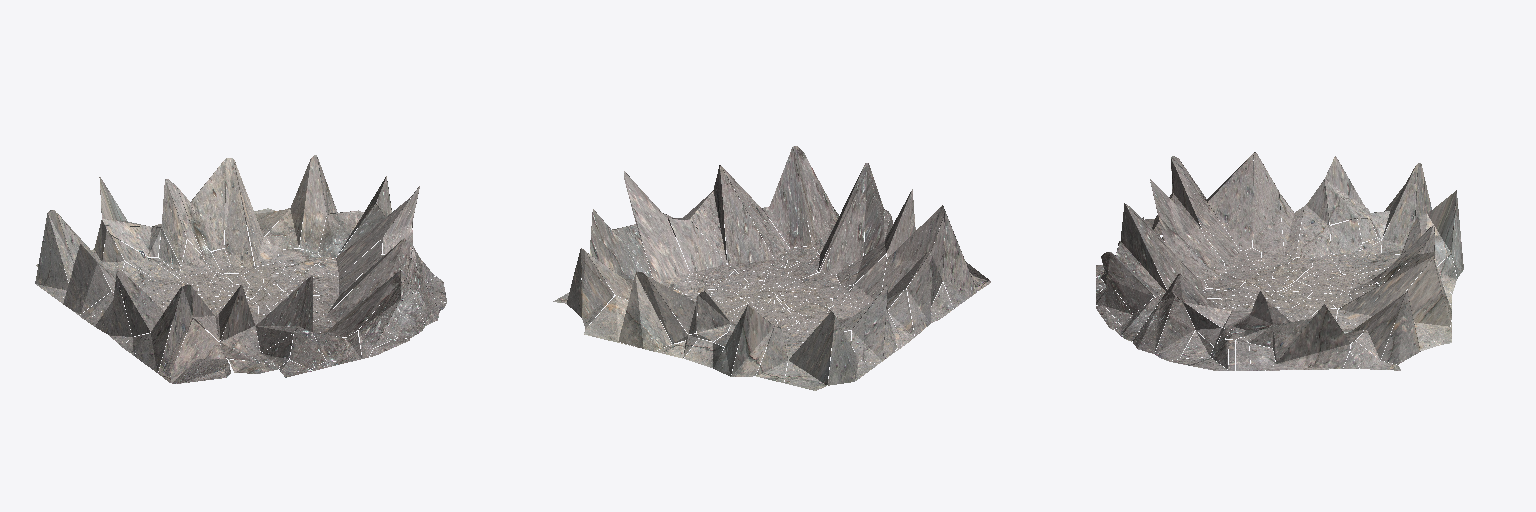
3 views of the same model, side by side, from view 1: azimuth 30°, elevation 25°; view 2: azimuth 150°, elevation 25°; view 3: azimuth 270°, elevation 25° (orthographic).
Parts seen in each view (by area): view 1: Plane.001_cell_Plane.001_cell.187; view 2: Plane.001_cell_Plane.001_cell.187; view 3: Plane.001_cell_Plane.001_cell.187.
Boxes of the visible parts, x1=… form: Plane.001_cell_Plane.001_cell.187: x1=35, y1=155, x2=446, y2=383; Plane.001_cell_Plane.001_cell.187: x1=553, y1=146, x2=990, y2=390; Plane.001_cell_Plane.001_cell.187: x1=1096, y1=152, x2=1463, y2=370.
Bounding box in the file's own units: 2.01 × 0.5178 × 2.06.
1 materials, 1 textured.